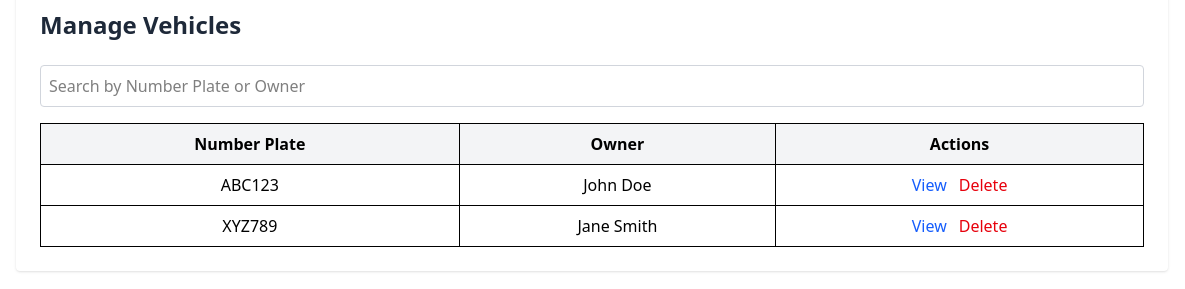
it: VehicleList Component › filters vehicles by number plate or owner
Check: the text "ABC123" is shown, box [40,164,459,206]
Type "Jane" into the field with placeholder "Search by Number Plate or Owner" at x=592, y=86, box [40,65,1144,107]
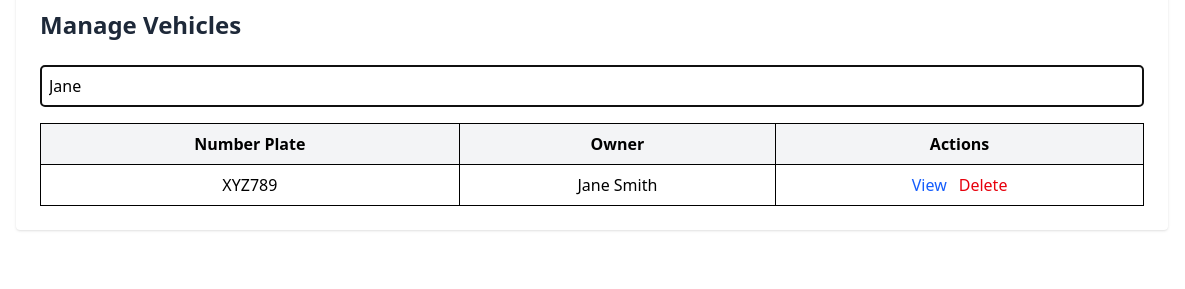
Check: the text "XYZ789" is shown, box [40,164,459,206]
Check: the text "ABC123" is gone
